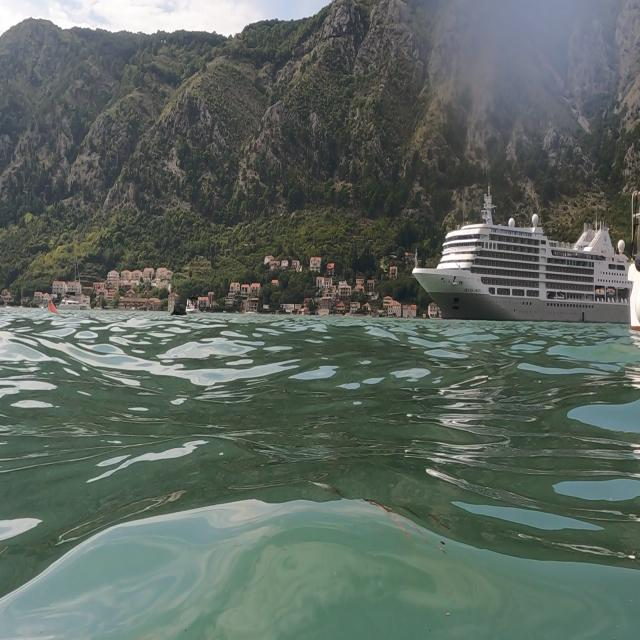boat: (410, 178, 637, 330)
buoy: (41, 291, 63, 320), (167, 298, 191, 321)
